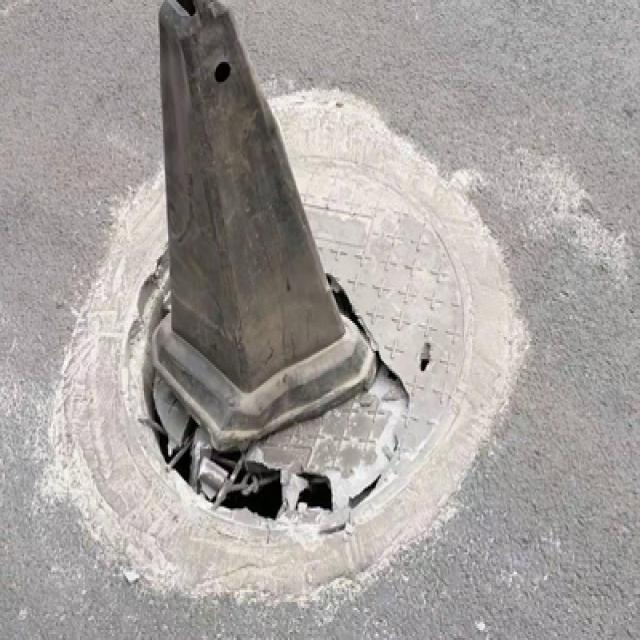manhole: (91, 162, 474, 550)
